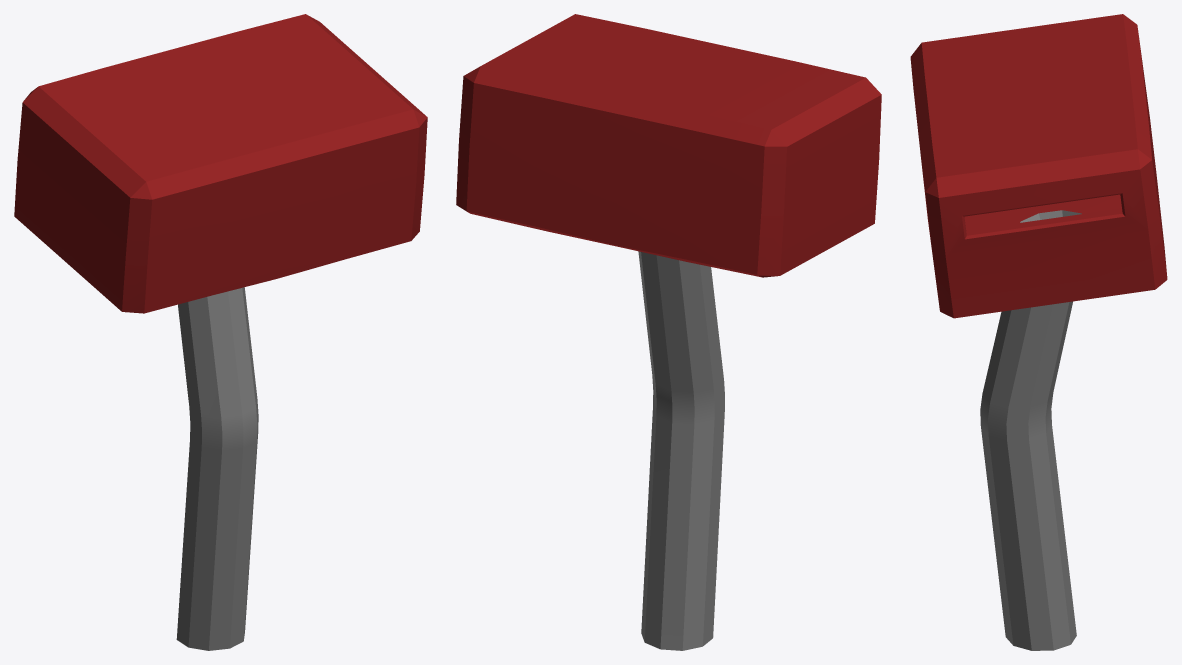
Rendered from mailbox_text.fbx.
The picture shows the model from 3 angles, left to right: view 1: azimuth 30°, elevation 25°; view 2: azimuth 150°, elevation 25°; view 3: azimuth 270°, elevation 25°; orthographic projection. The views are drawn at different scales.
Visible parts, largest first — view 1: mailbox; view 2: mailbox; view 3: mailbox.
Part boxes in pixels (left/top/right/bottom): mailbox: left=14, top=14, right=427, bottom=650; mailbox: left=456, top=14, right=881, bottom=650; mailbox: left=910, top=14, right=1167, bottom=650.
Size of the model in its own units: 69.4 by 116 by 48.55.
1 material, 1 textured.
